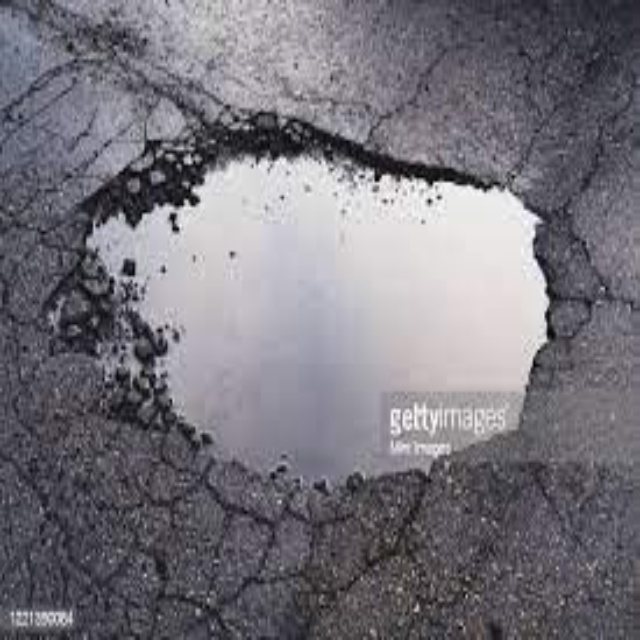pothole: (95, 157, 547, 486)
